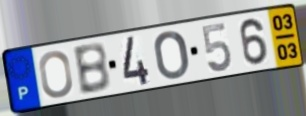4: (122, 35, 152, 88)
5: (200, 19, 233, 74)
6: (238, 16, 270, 67)
B: (70, 40, 112, 97)
O: (152, 29, 191, 81), (37, 49, 75, 100)
